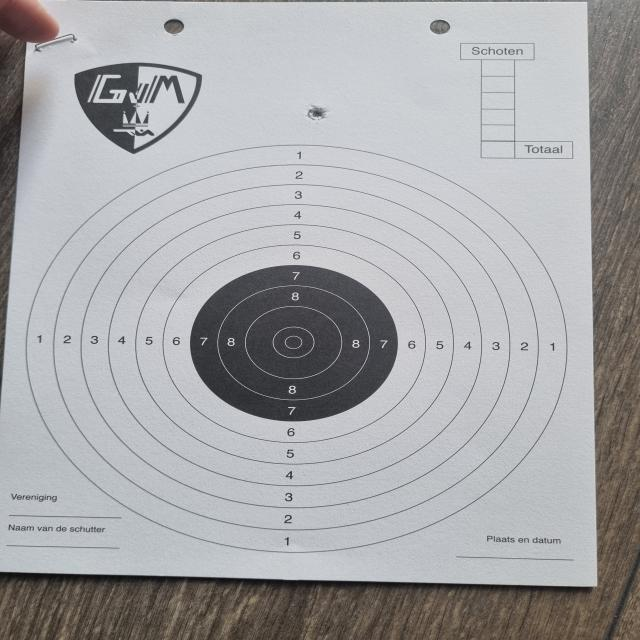0: (306, 105, 328, 123)
Target: (26, 145, 568, 554)
black_contour: (190, 265, 398, 422)
